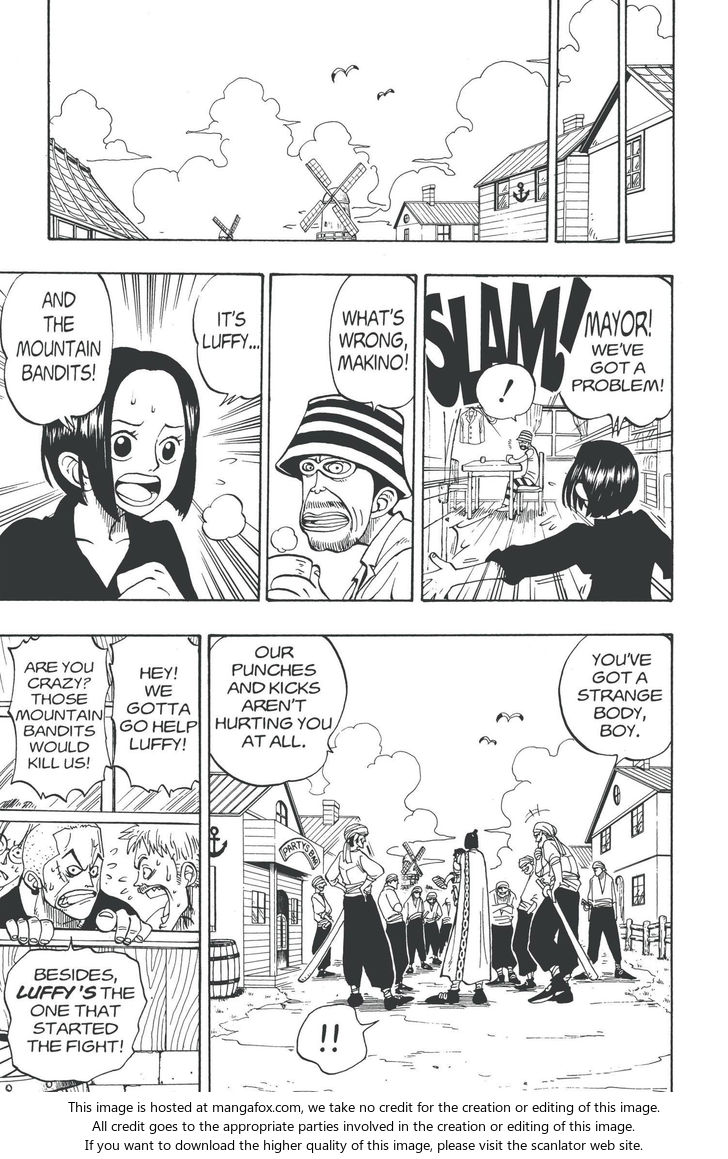bubble: (208, 634, 349, 786), (3, 938, 148, 1083), (0, 272, 114, 431), (560, 277, 672, 435), (9, 635, 112, 803), (559, 635, 672, 770), (110, 636, 200, 798), (328, 275, 416, 413), (193, 273, 263, 405), (296, 1004, 380, 1074), (475, 362, 534, 420)
